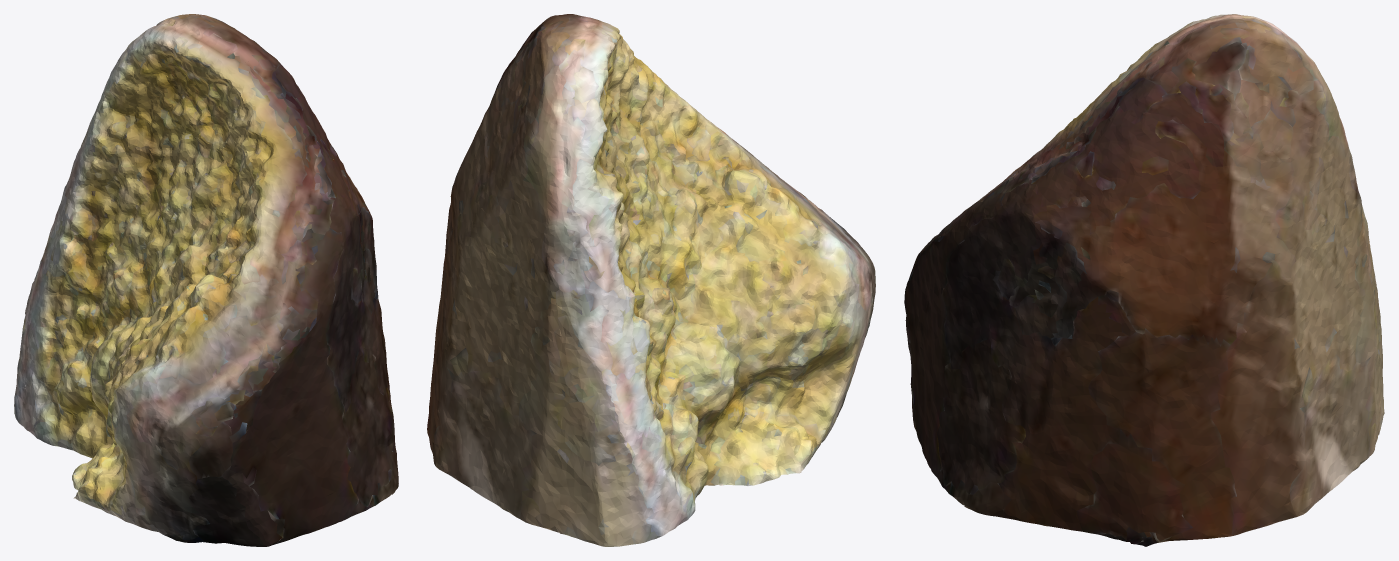
The model's file is zwilling-citrine-crystal.glb.
3 renders of one model, left to right at view 1: azimuth 30°, elevation 25°; view 2: azimuth 150°, elevation 25°; view 3: azimuth 270°, elevation 25°, orthographic. The views are drawn at different scales.
Bounding box in the file's own units: 0.0971 × 0.1168 × 0.1144.
1 material, 1 textured.
